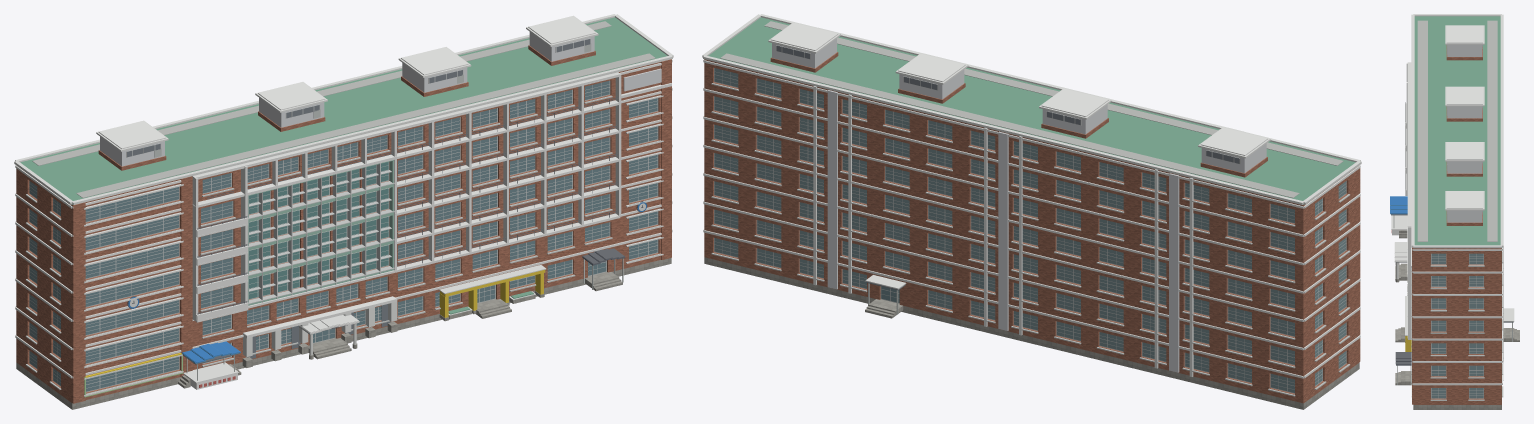
3 renders of one model, left to right at view 1: azimuth 30°, elevation 25°; view 2: azimuth 150°, elevation 25°; view 3: azimuth 270°, elevation 25°, orthographic. The views are drawn at different scales.
Visible parts, largest first — view 1: main__brick, main__glass, main__band, main__frame, main__cap, main__roof, main__curtainwallglass, main__slab, main__sill, main__darkframe, main__stone, main__panel (+5 smaller); view 2: main__brick, main__sideglass, main__band, main__roof, main__frame, main__panel, main__sill, main__slab, main__cap, main__stone, main__entrance; view 3: main__brick, main__roof, main__band, main__cap, main__slab, main__sideglass, main__panel, main__frame, main__sill, main__stone, main__darkframe, main__blue (+2 smaller).
Boxes of the visible parts, <box> form: main__brick: <box>16,45,671,403</box>; main__glass: <box>85,80,657,391</box>; main__band: <box>15,16,672,396</box>; main__frame: <box>29,38,658,392</box>; main__cap: <box>14,14,673,383</box>; main__roof: <box>20,17,667,314</box>; main__curtainwallglass: <box>249,162,388,298</box>; main__slab: <box>32,21,655,197</box>; main__sill: <box>25,95,660,394</box>; main__darkframe: <box>127,97,647,364</box>; main__stone: <box>16,258,671,409</box>; main__panel: <box>100,32,661,166</box>; main__brick: <box>704,52,1360,403</box>; main__sideglass: <box>714,68,1346,392</box>; main__band: <box>703,23,1360,378</box>; main__roof: <box>708,17,1355,204</box>; main__frame: <box>714,45,1346,393</box>; main__panel: <box>772,38,1266,372</box>; main__sill: <box>711,83,1350,396</box>; main__slab: <box>720,21,1343,197</box>; main__cap: <box>702,14,1361,289</box>; main__stone: <box>704,257,1359,409</box>; main__entrance: <box>776,45,1239,290</box>; main__brick: <box>1412,45,1501,404</box>; main__roof: <box>1414,16,1500,245</box>; main__band: <box>1392,25,1503,396</box>; main__cap: <box>1391,14,1514,383</box>; main__slab: <box>1417,20,1497,241</box>; main__sideglass: <box>1431,253,1483,398</box>; main__panel: <box>1447,45,1482,222</box>; main__frame: <box>1431,45,1483,398</box>; main__sill: <box>1430,248,1503,400</box>; main__stone: <box>1395,230,1501,409</box>; main__darkframe: <box>1391,102,1411,364</box>; main__blue: <box>1390,196,1407,213</box>.
Size of the model in its own units: 75.82 by 27.48 by 17.87.
22 materials, 2 textured.
